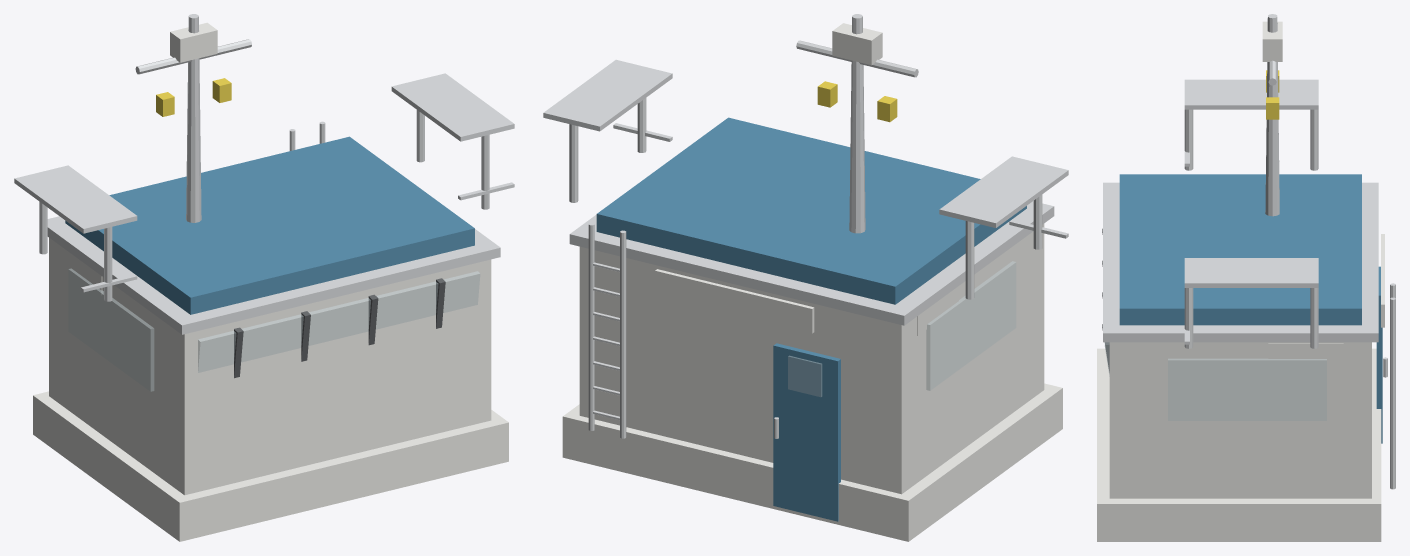
The model's file is fish-market-and-trawler-quay-fish-market-and-trawler-q-03369cf3__37256.glb.
3 views of the same model, side by side, from view 1: azimuth 30°, elevation 25°; view 2: azimuth 150°, elevation 25°; view 3: azimuth 270°, elevation 25° (orthographic). The views are drawn at different scales.
Parts seen in each view (by area): view 1: fish-market-and-trawler-quay-trawler-wheelhouse; view 2: fish-market-and-trawler-quay-trawler-wheelhouse, cabin-door/paint, cabin-door/glass; view 3: fish-market-and-trawler-quay-trawler-wheelhouse, cabin-door/paint.
Part boxes in pixels (x1,y1,x2,y2): fish-market-and-trawler-quay-trawler-wheelhouse: (14,14,514,541); fish-market-and-trawler-quay-trawler-wheelhouse: (543,14,1068,541); cabin-door/paint: (773,343,840,521); cabin-door/glass: (788,355,822,396); fish-market-and-trawler-quay-trawler-wheelhouse: (1097,14,1395,541); cabin-door/paint: (1376,266,1382,443).
Bounding box in the file's own units: 5.76 × 5.54 × 3.57.
